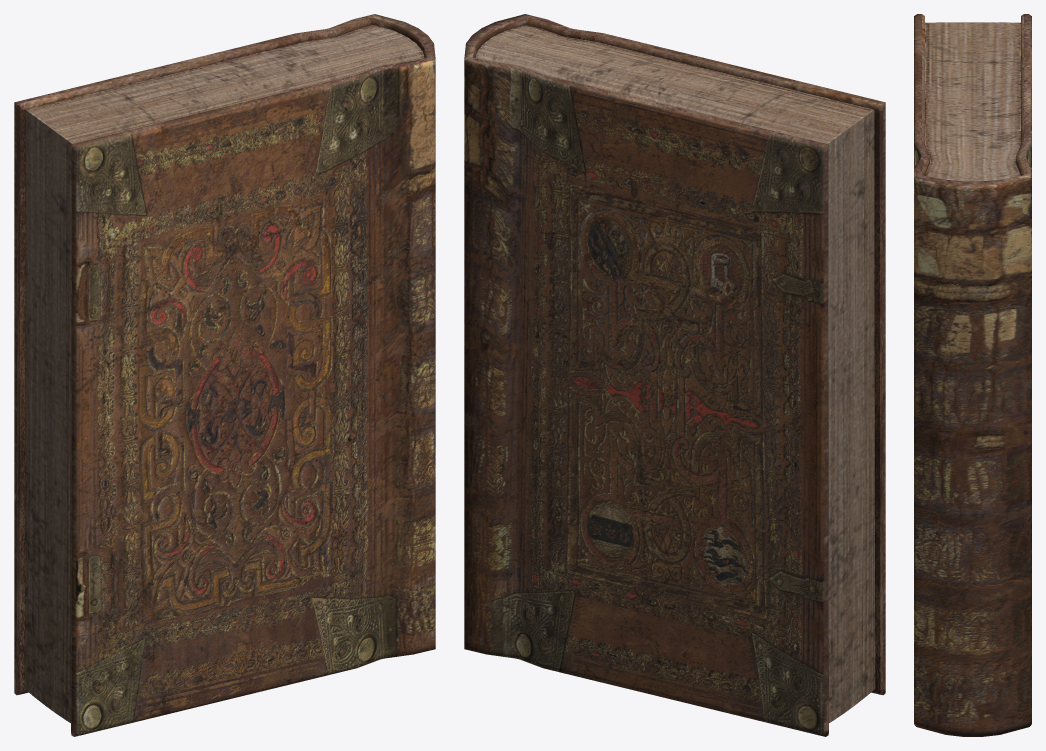
The model's file is book.fbx.
3 views of the same model, side by side, from view 1: azimuth 30°, elevation 25°; view 2: azimuth 150°, elevation 25°; view 3: azimuth 270°, elevation 25° (orthographic). The views are drawn at different scales.
Parts seen in each view (by area): view 1: book1; view 2: book1; view 3: book1.
Part boxes in pixels (<box>): book1: <box>14,14,435,736</box>; book1: <box>464,14,885,736</box>; book1: <box>914,14,1031,736</box>.
Size of the model in its own units: 1.27 by 1.9 by 0.3688.
Materials: 1 (1 with a texture image).
